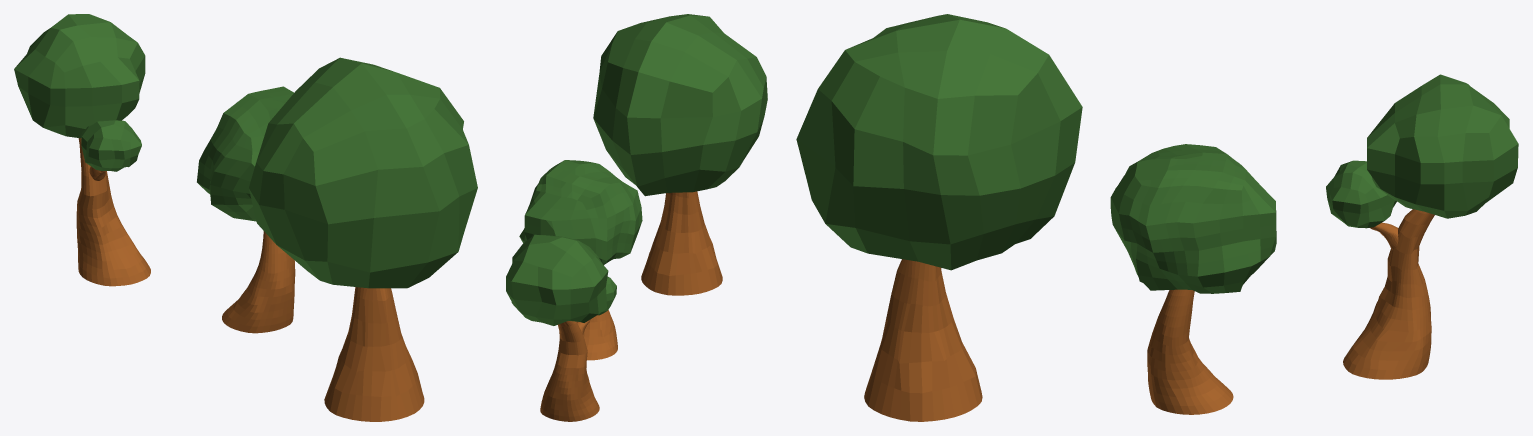
File: puita_1.fbx
3 views of the same model, side by side, from view 1: azimuth 30°, elevation 25°; view 2: azimuth 150°, elevation 25°; view 3: azimuth 270°, elevation 25° (orthographic). The views are drawn at different scales.
Parts seen in each view (by area): view 1: Cube.001, Cube.003, Cube; view 2: Cube.001, Cube.003, Cube; view 3: Cube.001, Cube.003, Cube.
Part boxes in pixels (box(x1,y1,x2,y2)): Cube.001: box(249, 57, 477, 421); Cube.003: box(14, 14, 150, 286); Cube: box(197, 86, 295, 333); Cube.001: box(593, 14, 767, 295); Cube.003: box(506, 234, 616, 421); Cube: box(519, 160, 642, 360); Cube.001: box(796, 14, 1082, 421); Cube.003: box(1326, 74, 1518, 379); Cube: box(1110, 144, 1276, 414).
Size of the model in its own units: 1187 by 1675 by 2879.
